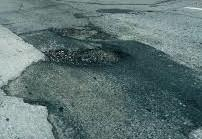pothole: (47, 45, 125, 65), (62, 28, 99, 41)
